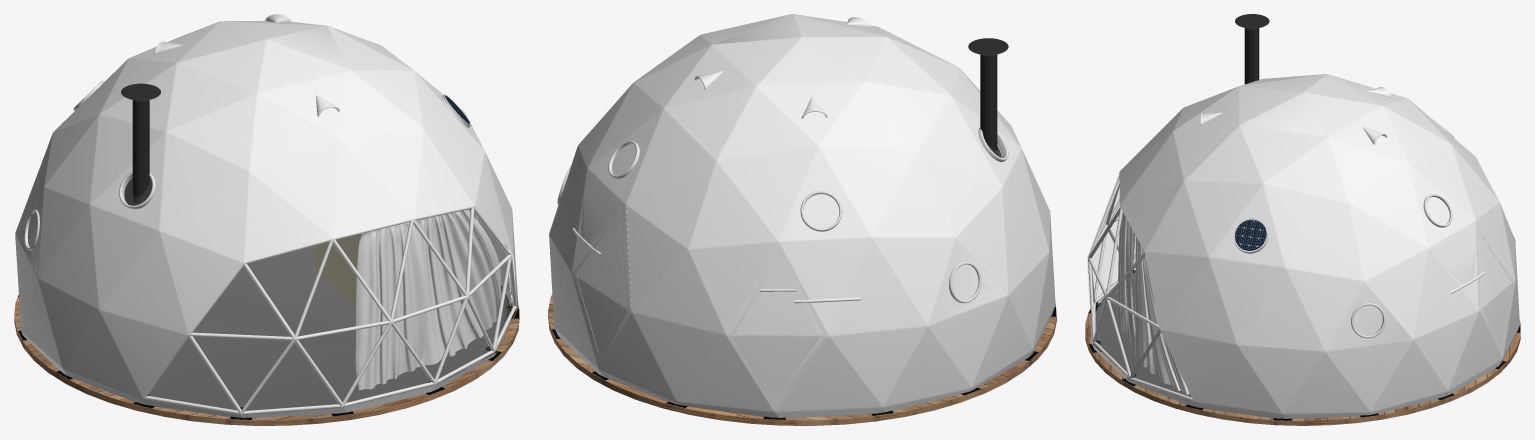
File: glamping_30.glb
3 renders of one model, left to right at view 1: azimuth 30°, elevation 25°; view 2: azimuth 150°, elevation 25°; view 3: azimuth 270°, elevation 25°, orthographic. The views are drawn at different scales.
Visible parts, largest first — view 1: Membrane_P4_Diamond_Entrance, Curtain (×2), PCV_Floor_Door_P3, Grid_Heavy_Duty_P4_Diamond, PCV_Floor, Membrane_Skylight_Window_fill, Ground, PCV_Floor_Door_P4, Membrane_P3_Regular_Alu_Glass_Entrance, Bathroom_module, Heater_chimney_Heater_steel_0, Membrane_P3_Diamond_Entrance (+3 smaller); view 2: Membrane_P4_Diamond_Entrance, Membrane_Skylight_Window_fill, Membrane_P3_Diamond_Entrance, Membrane_P3_Regular_Alu_Glass_Entrance, Membrane_P3_Regular_Entrance, Ground, Membrane_P4_Regular_Entrance, Door_P3_Diamond_Membrane_outside_0 (×2), Membrane_Additional_Porthole_window_Fill_P2_Membrane_outside, Door_P4_Diamond_Membrane_outside_0, Membrane_P4_Regular_Alu_Glass_Entrance, Heater_chimney_Heater_steel_0 (+3 smaller); view 3: Membrane_P4_Diamond_Entrance, Membrane_Skylight_Window_fill, Curtain (×2), Membrane_P3_Regular_Alu_Glass_Entrance, Ground, Grid_Heavy_Duty_P4_Diamond, Membrane_P4_Regular_Entrance, Membrane_Additional_Porthole_window_Fill_P5_Membrane_outside, Membrane_P4_Regular_Alu_Glass_Entrance, Membrane_P3_Diamond_Entrance, PCV_Floor, Door_P4_Diamond_Membrane_outside_0 (+7 smaller).
Part boxes in pixels (x1,y1,x2,y2): Membrane_P4_Diamond_Entrance: (15, 20, 518, 417); Curtain (×2): (355, 209, 501, 390); PCV_Floor_Door_P3: (163, 246, 497, 410); Grid_Heavy_Duty_P4_Diamond: (143, 206, 516, 414); PCV_Floor: (160, 246, 509, 410); Membrane_Skylight_Window_fill: (178, 21, 349, 92); Ground: (14, 297, 519, 425); PCV_Floor_Door_P4: (148, 253, 502, 410); Membrane_P3_Regular_Alu_Glass_Entrance: (15, 21, 517, 417); Bathroom_module: (314, 234, 361, 308); Heater_chimney_Heater_steel_0: (132, 100, 149, 203); Membrane_P3_Diamond_Entrance: (65, 137, 164, 403); Membrane_P4_Diamond_Entrance: (549, 14, 1055, 417); Membrane_Skylight_Window_fill: (713, 14, 885, 85); Membrane_P3_Diamond_Entrance: (577, 99, 1054, 353); Membrane_P3_Regular_Alu_Glass_Entrance: (549, 14, 1053, 417); Membrane_P3_Regular_Entrance: (616, 116, 926, 417); Ground: (548, 294, 1056, 425); Membrane_P4_Regular_Entrance: (549, 171, 625, 372); Door_P3_Diamond_Membrane_outside_0 (×2): (727, 243, 828, 410); Membrane_Additional_Porthole_window_Fill_P2_Membrane_outside: (929, 239, 1006, 324); Door_P4_Diamond_Membrane_outside_0: (572, 206, 631, 367); Membrane_P4_Regular_Alu_Glass_Entrance: (549, 105, 979, 417); Heater_chimney_Heater_steel_0: (980, 54, 997, 155); Membrane_P4_Diamond_Entrance: (1091, 74, 1519, 418); Membrane_Skylight_Window_fill: (1240, 74, 1381, 136); Curtain (×2): (1117, 212, 1189, 394); Membrane_P3_Regular_Alu_Glass_Entrance: (1092, 87, 1518, 418); Ground: (1085, 281, 1520, 425); Grid_Heavy_Duty_P4_Diamond: (1088, 176, 1193, 401); Membrane_P4_Regular_Entrance: (1416, 223, 1509, 394); Membrane_Additional_Porthole_window_Fill_P5_Membrane_outside: (1327, 283, 1411, 350); Membrane_P4_Regular_Alu_Glass_Entrance: (1219, 192, 1512, 394); Membrane_P3_Diamond_Entrance: (1194, 167, 1512, 406); PCV_Floor: (1095, 272, 1191, 400); Door_P4_Diamond_Membrane_outside_0: (1476, 221, 1515, 357).
Size of what is drawn, in the model's own units: 6390 by 4000 by 6378.
15 materials, 1 textured.
